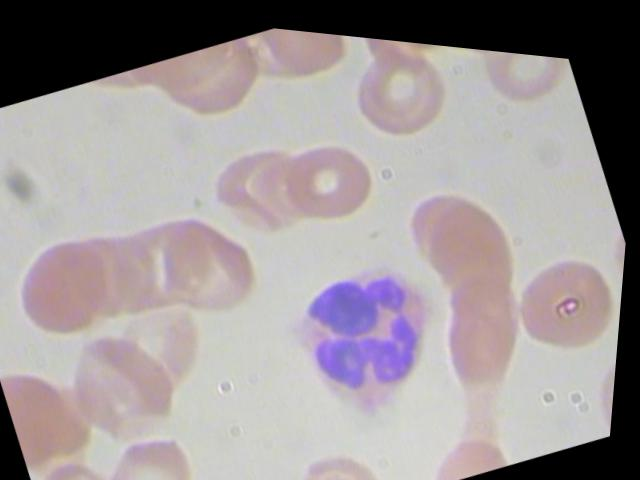Red Blood Cells: (55, 307, 203, 460), (151, 187, 283, 334), (0, 217, 139, 354), (500, 221, 628, 362), (335, 28, 474, 156), (200, 118, 328, 250), (424, 252, 548, 388), (410, 172, 534, 307), (275, 115, 391, 234), (417, 404, 530, 479), (465, 38, 580, 111), (282, 438, 401, 479), (36, 439, 150, 479), (123, 459, 247, 479)
White Blood Cells: (264, 225, 477, 438)
